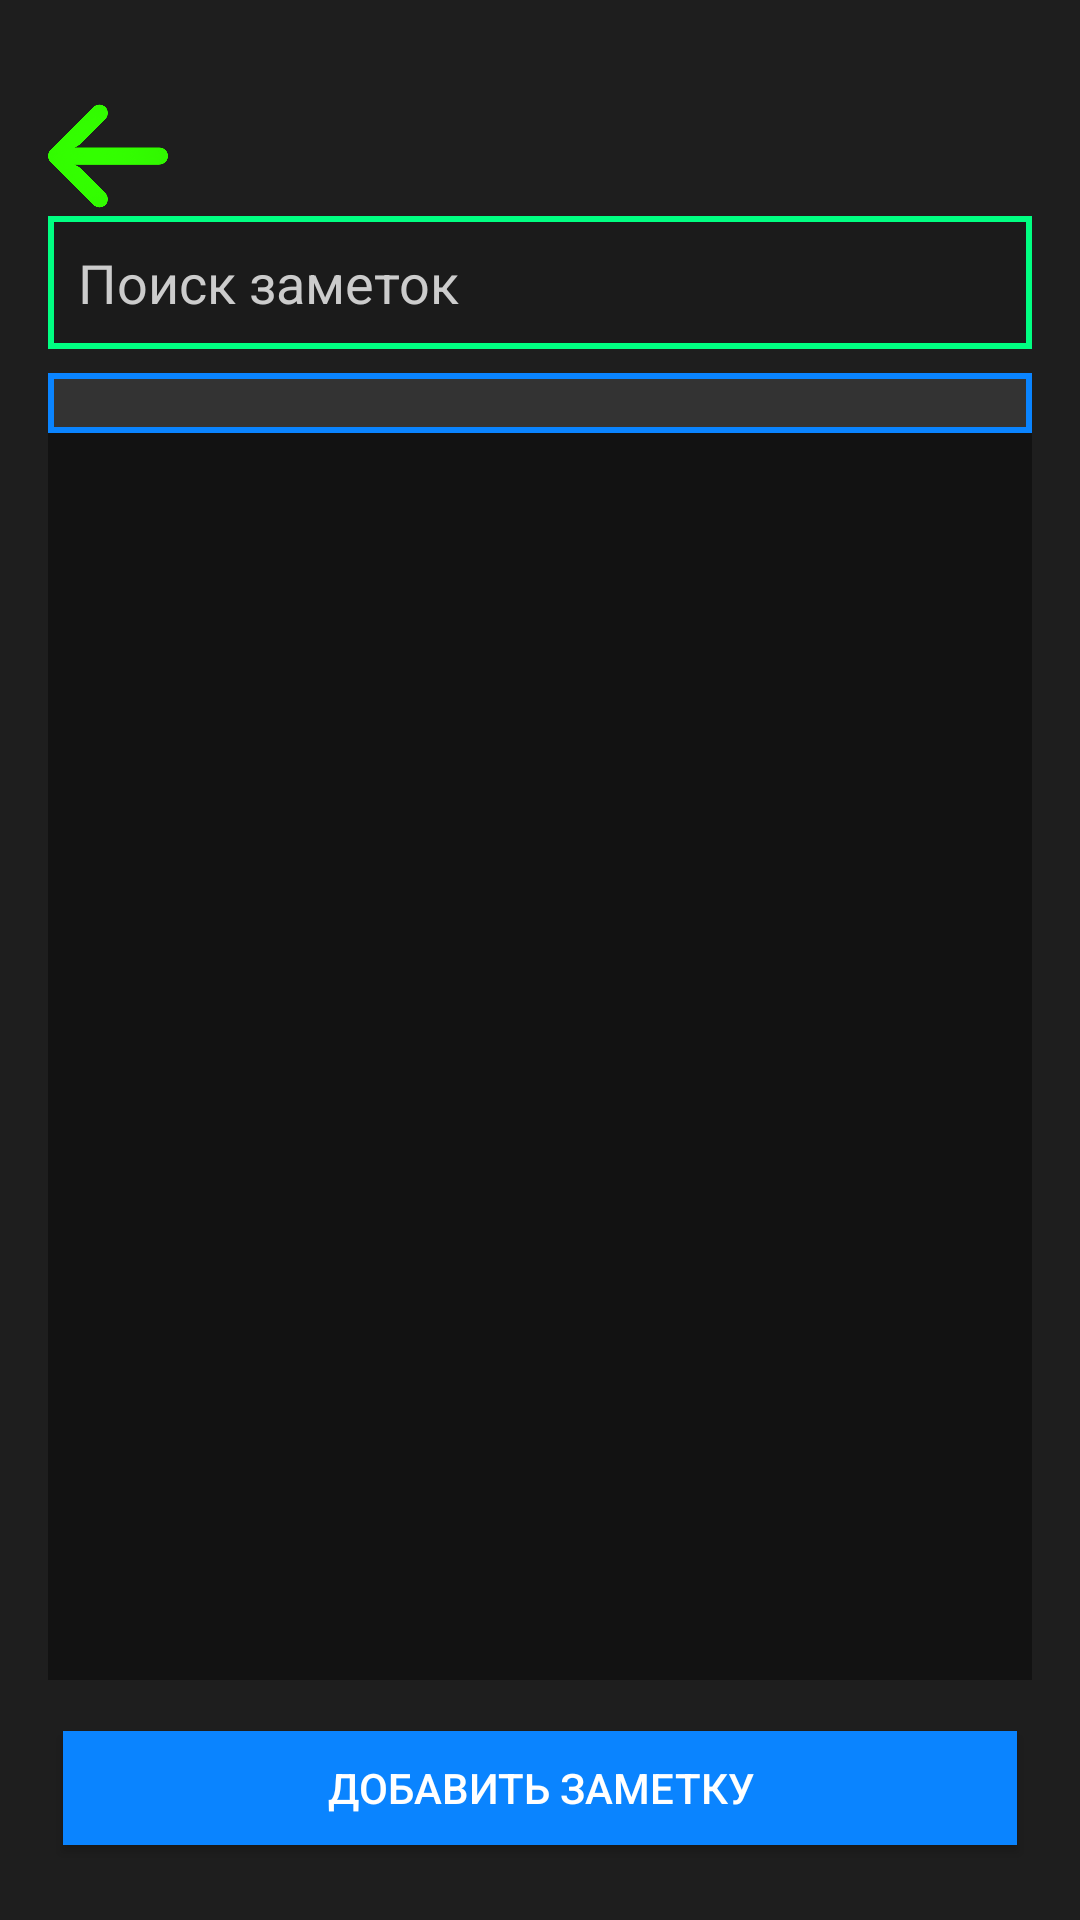

Screen size 1080 × 1920. Icon name, then its box in pixels as [x1=x1, y1=y1, x2=x2, y2=y2]:
Back: [x1=48, y1=104, x2=168, y2=208]
